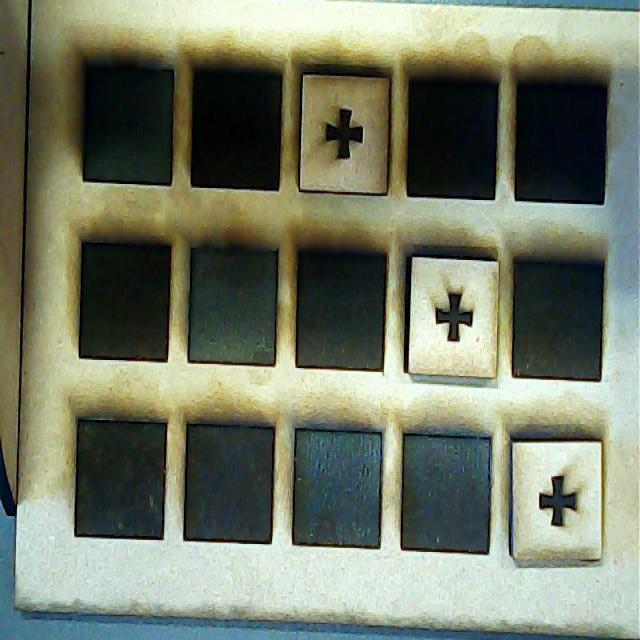temple: (513, 435, 605, 558), (411, 255, 500, 380), (303, 73, 389, 193)
